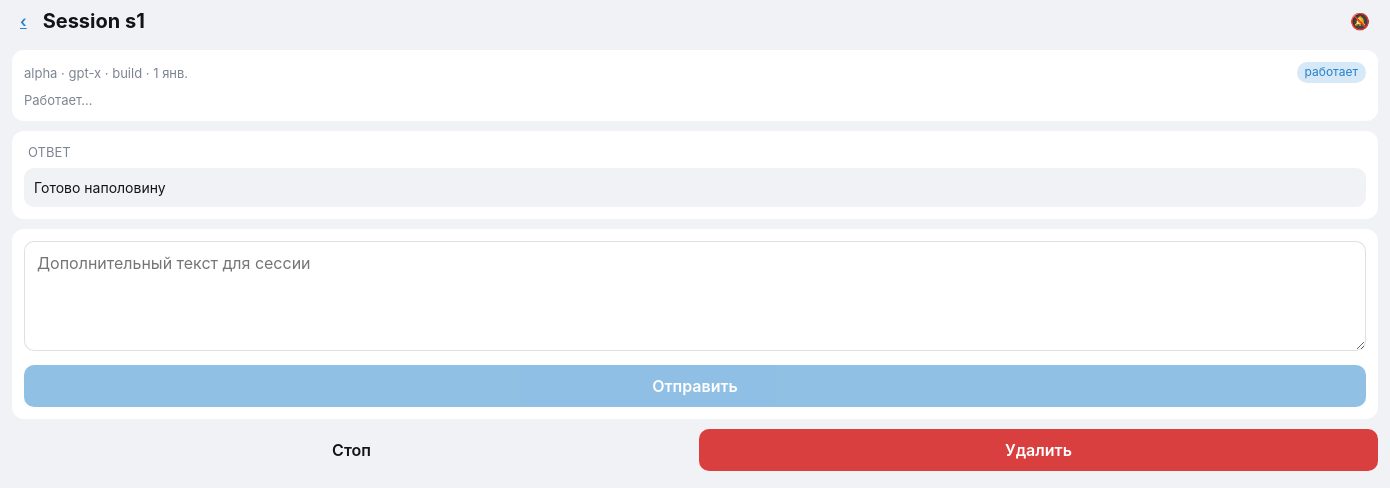
Test case: busy session asks queue or steer and sends the draft
Check: the text "Готово наполовину" is shown, box [24, 168, 1366, 207]
Type "еще" into the text box labelled "текст".
click(695, 296); type("еще")  # box [24, 241, 1366, 351]
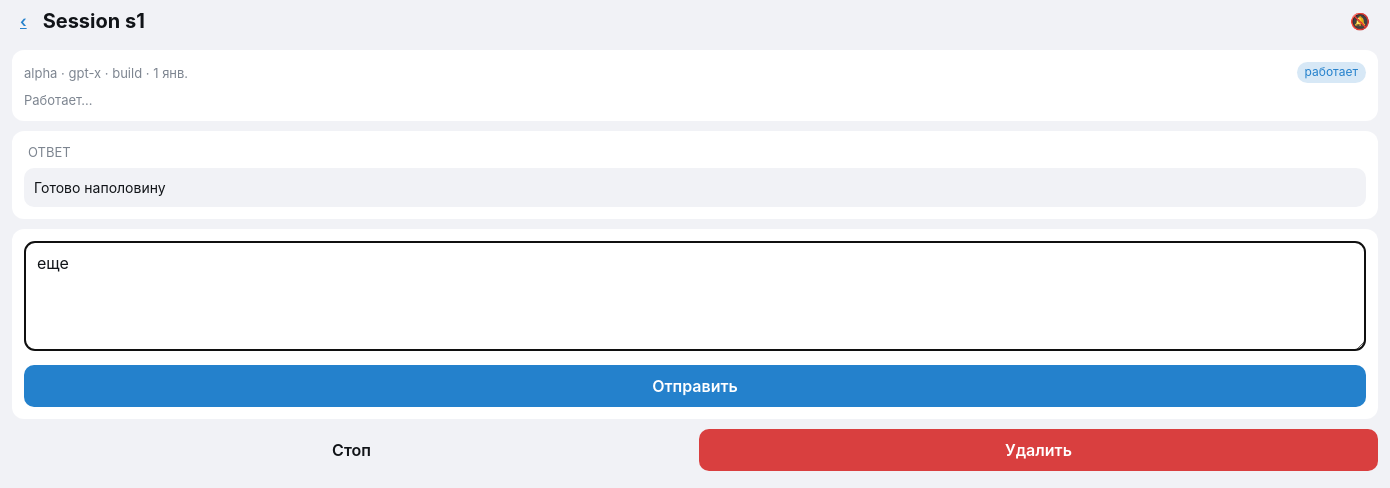
Click the button "Отправить".
click(695, 386)  # box [24, 364, 1366, 407]
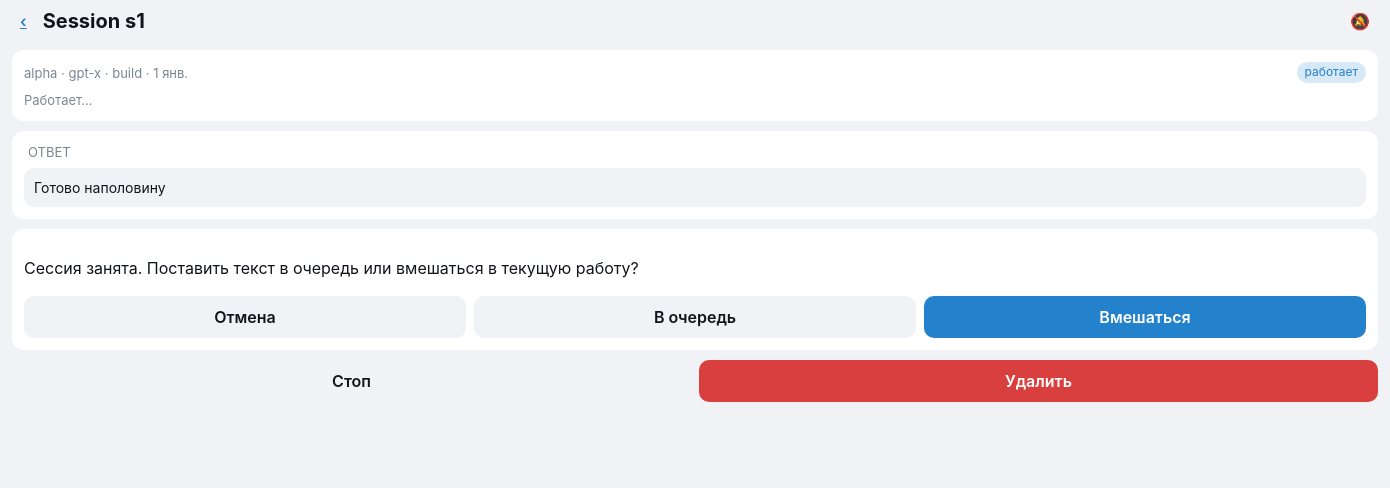
Click the button "Вмешаться".
click(1145, 317)  # box [924, 296, 1366, 338]
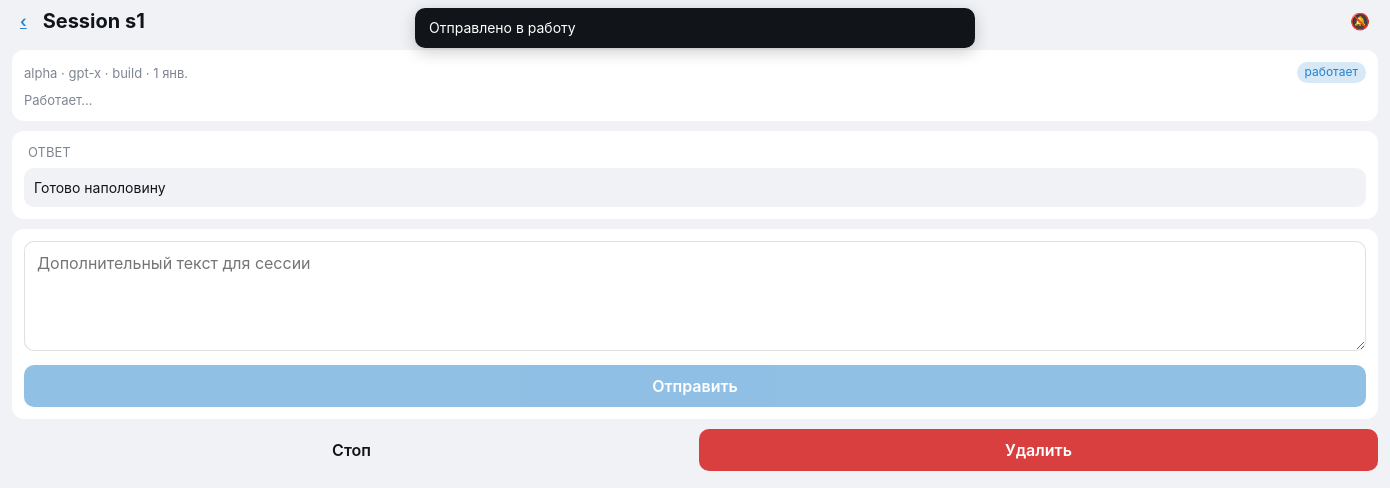
Check: the text "Отправлено в работу" is shown, box [415, 8, 975, 48]
